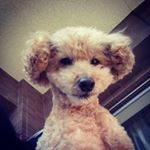puppy: (19, 24, 139, 150)
